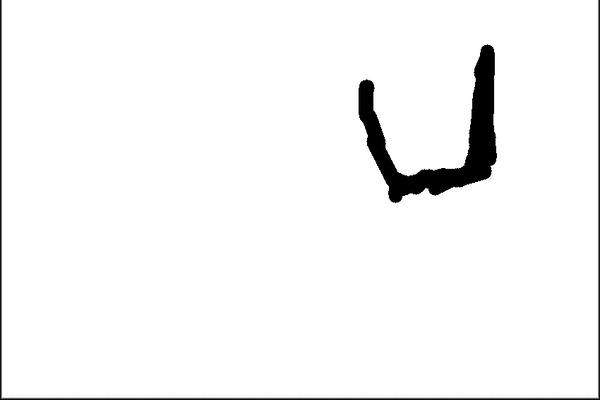U: (344, 23, 509, 213)
